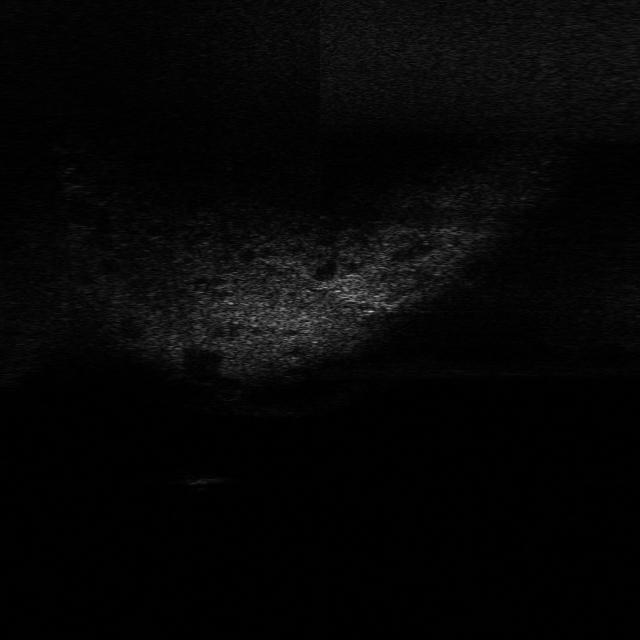cube: (172, 465, 233, 487)
